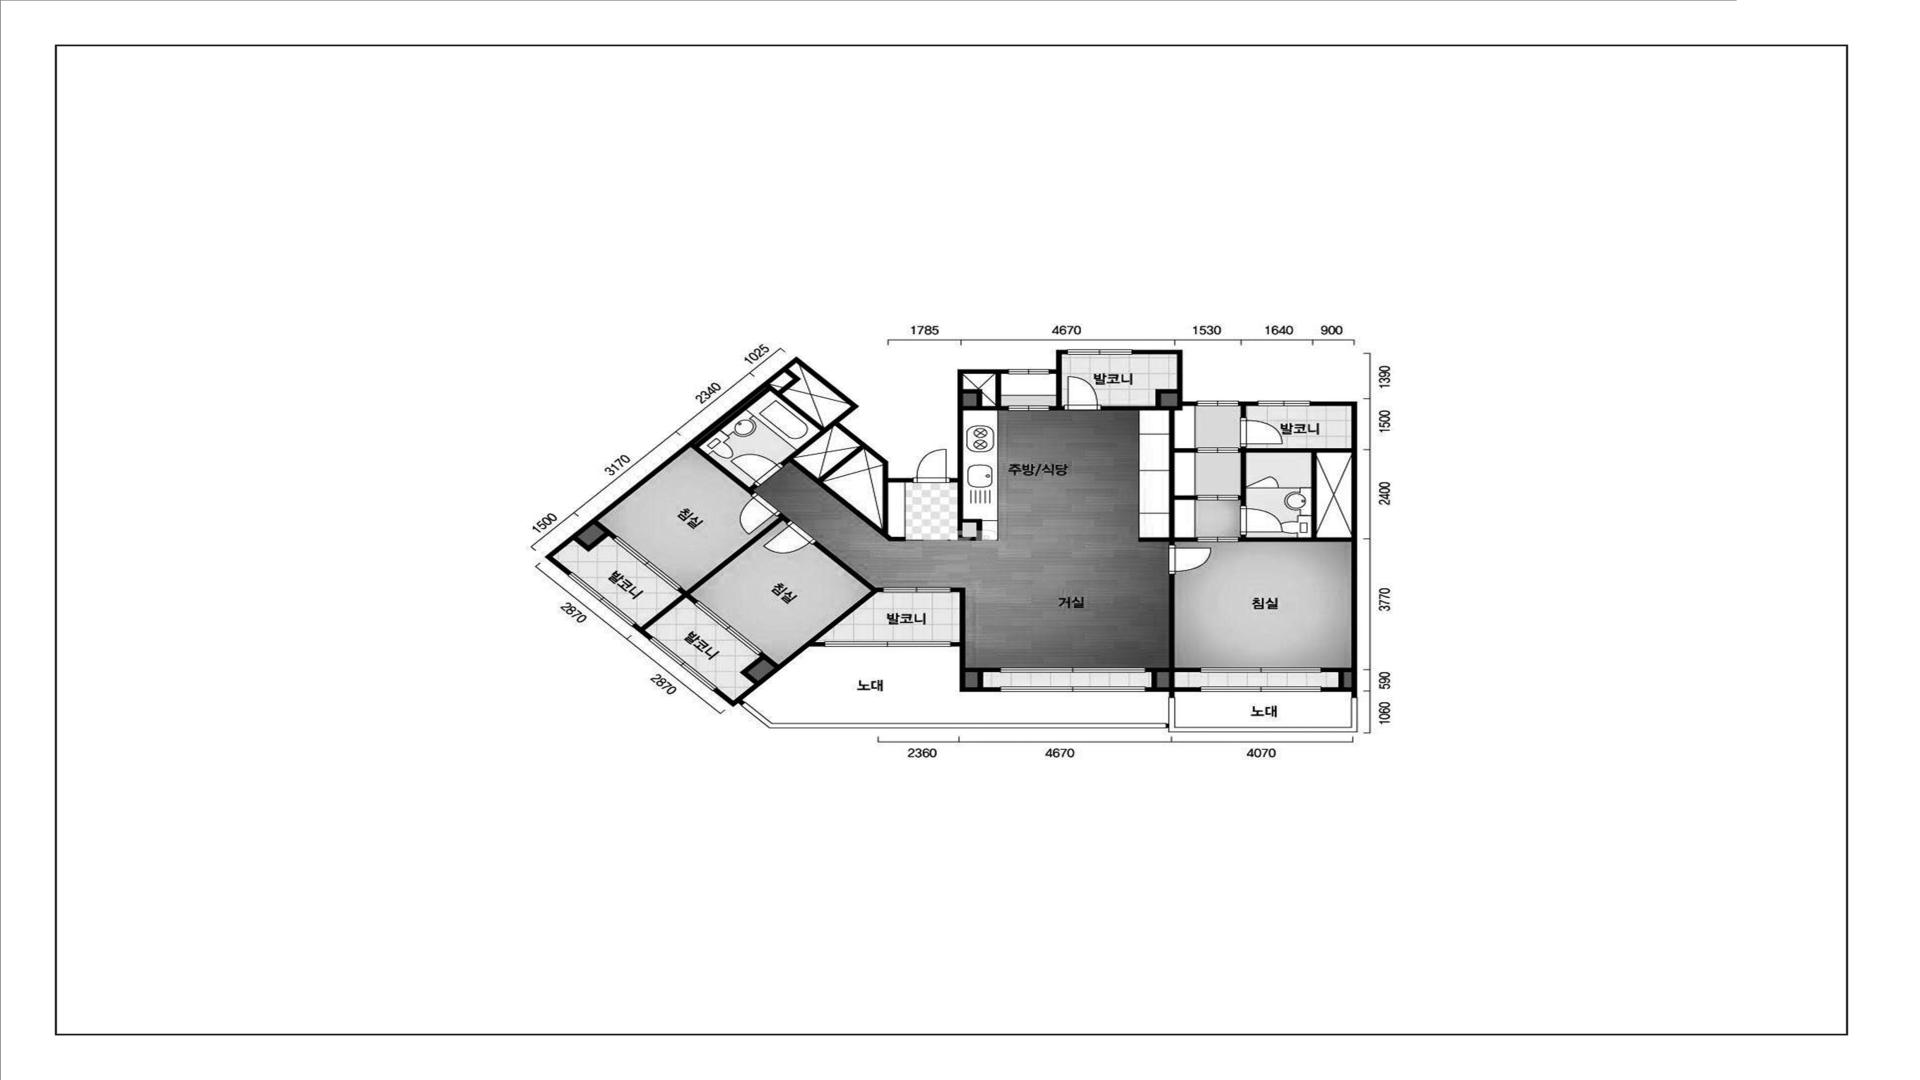door: (760, 521, 817, 565), (725, 492, 781, 536), (728, 443, 783, 487), (1168, 545, 1212, 574), (1064, 376, 1101, 410), (913, 449, 950, 483), (1240, 418, 1283, 447), (1240, 506, 1283, 535), (1246, 476, 1279, 488), (1197, 447, 1238, 453), (1008, 406, 1049, 411), (1197, 537, 1238, 542), (1197, 495, 1238, 500)
wall: (545, 357, 913, 575), (641, 512, 791, 630), (1310, 402, 1357, 692), (789, 459, 906, 541), (713, 642, 825, 707), (950, 369, 1009, 482), (694, 387, 770, 447), (807, 588, 883, 642), (1132, 350, 1197, 406), (691, 444, 758, 495), (813, 541, 875, 590), (766, 384, 824, 431), (951, 642, 1000, 692), (780, 422, 835, 466), (818, 446, 864, 482), (951, 588, 965, 642), (1238, 535, 1352, 541), (1169, 410, 1174, 545), (740, 656, 764, 684), (574, 533, 609, 552), (1049, 374, 1065, 411), (1169, 574, 1175, 668), (1246, 448, 1352, 453), (1311, 452, 1317, 538), (1238, 447, 1246, 506), (1049, 350, 1067, 374), (594, 521, 617, 539), (1156, 389, 1177, 406), (632, 623, 653, 640), (758, 652, 779, 668), (1101, 406, 1182, 410), (963, 389, 982, 406), (882, 482, 888, 534), (958, 482, 963, 541), (778, 379, 797, 394), (1145, 687, 1201, 692), (1146, 668, 1201, 672), (785, 369, 801, 382), (963, 406, 1008, 410), (996, 374, 1001, 406), (965, 668, 1001, 672), (1138, 538, 1169, 542), (1321, 668, 1351, 672), (686, 594, 698, 604), (1174, 448, 1197, 453), (1238, 401, 1258, 406), (1174, 496, 1197, 500), (1174, 538, 1197, 542), (977, 672, 983, 687), (963, 537, 983, 541), (963, 519, 982, 523), (1339, 672, 1344, 687), (1169, 672, 1174, 687), (1152, 672, 1157, 687), (977, 523, 982, 537), (677, 587, 686, 594), (1241, 406, 1246, 418)
window: (613, 536, 681, 591), (567, 572, 636, 626), (649, 637, 717, 691), (694, 601, 762, 655), (1000, 667, 1146, 673), (1000, 686, 1145, 692), (825, 641, 951, 647), (1201, 686, 1321, 692), (1201, 667, 1321, 673), (1067, 349, 1132, 355), (883, 587, 951, 592), (1258, 401, 1310, 406), (1197, 401, 1238, 406), (1008, 369, 1049, 374)
